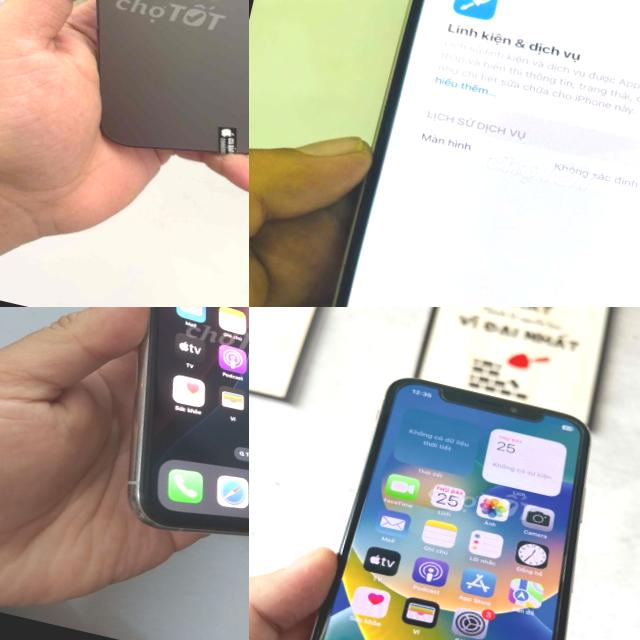gen_11: (129, 307, 249, 534)
gen_12_13: (13, 0, 249, 193)
gen_x_xs: (280, 358, 637, 640)
